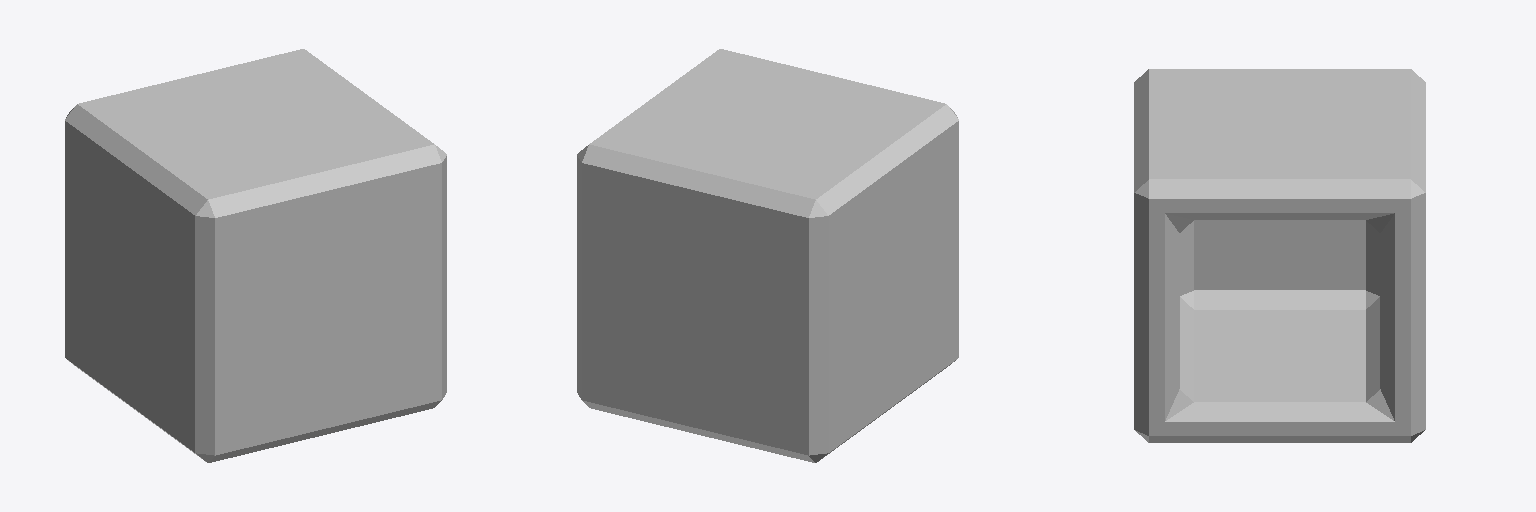
File: bulletlauncher.obj
3 renders of one model, left to right at view 1: azimuth 30°, elevation 25°; view 2: azimuth 150°, elevation 25°; view 3: azimuth 270°, elevation 25°, orthographic.
Parts seen in each view (by area): view 1: Cube; view 2: Cube; view 3: Cube.
Boxes of the visible parts, x1=… form: Cube: x1=65, y1=49, x2=446, y2=462; Cube: x1=577, y1=49, x2=958, y2=462; Cube: x1=1134, y1=69, x2=1425, y2=442.
Size of the model in its own units: 2 by 2 by 2.